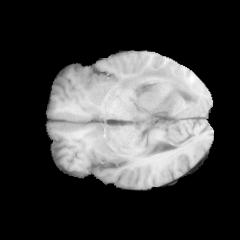glioma: (120, 63, 202, 116)
